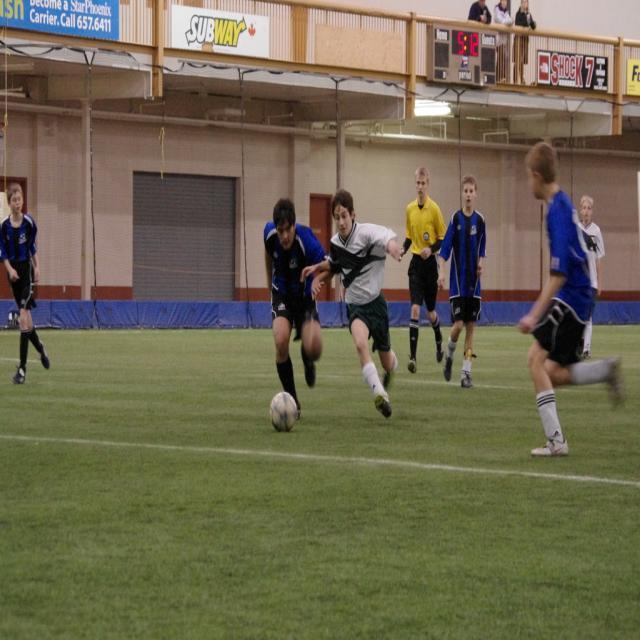football: (257, 388, 311, 443)
